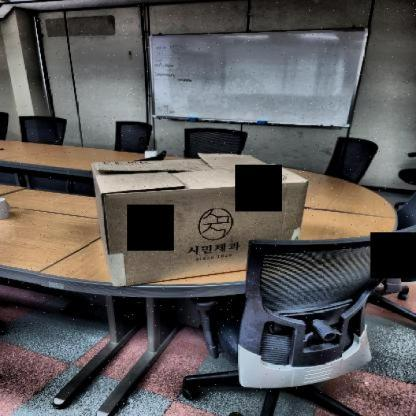-: (90, 150, 321, 296)
